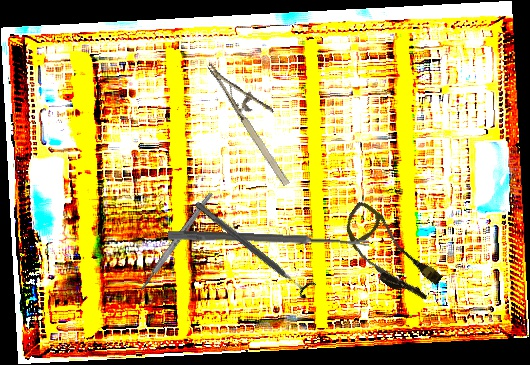Cannula: (328, 199, 452, 309)
Fixation Ring: (189, 194, 318, 302)
Needle Holder: (206, 47, 310, 189)
Scalpel Handle: (138, 191, 215, 292)
Surgical Spoon: (167, 230, 370, 248)
